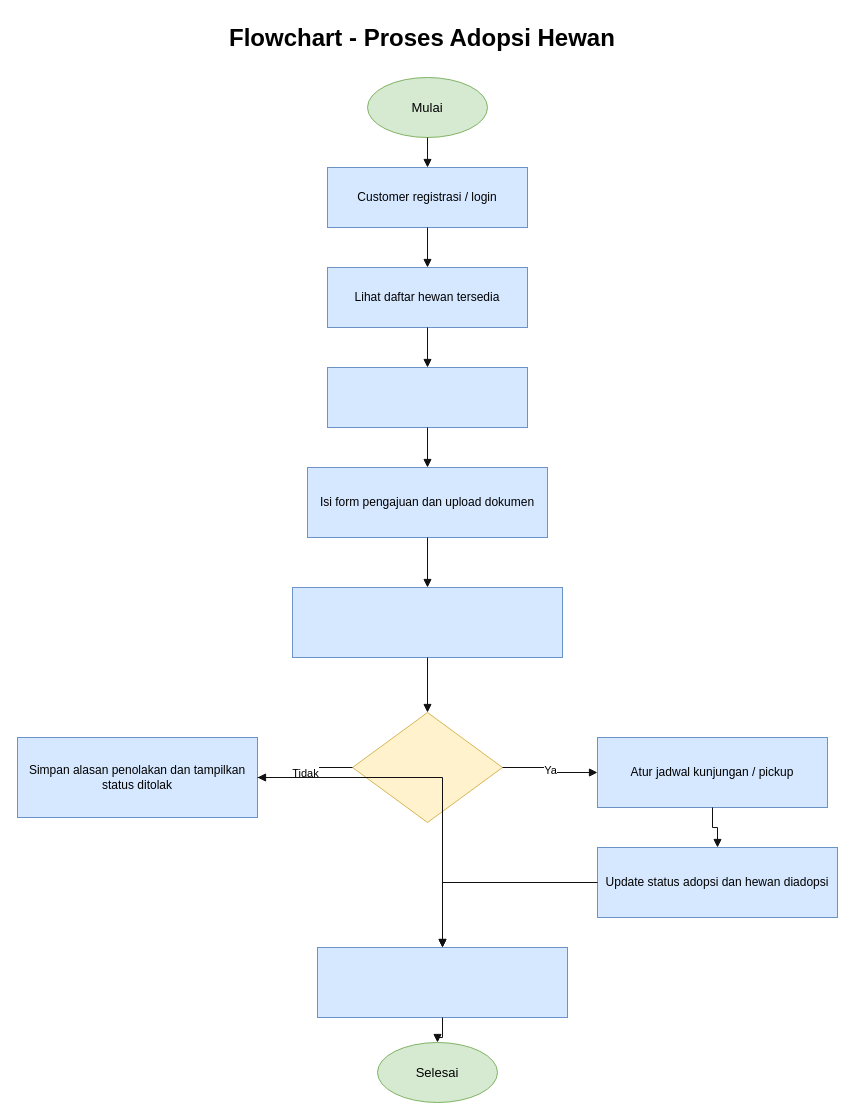
Some shapes in this 855 by 1120 pixel diagram are drawn without their labels. The shapes that lost their labels are listed below. From the top down, each one's centre as x and y in pixels, then its label:
At (427,397): "Pilih hewan untuk diadopsi".
At (427,622): "Admin / Petugas memeriksa pengajuan".
At (427,767): "Pengajuan disetujui?".
At (442,982): "Catat log aktivitas dan tampilkan laporan".
